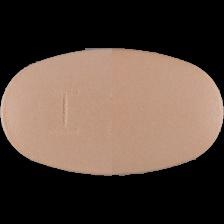23155-234: (0, 0, 224, 224)
